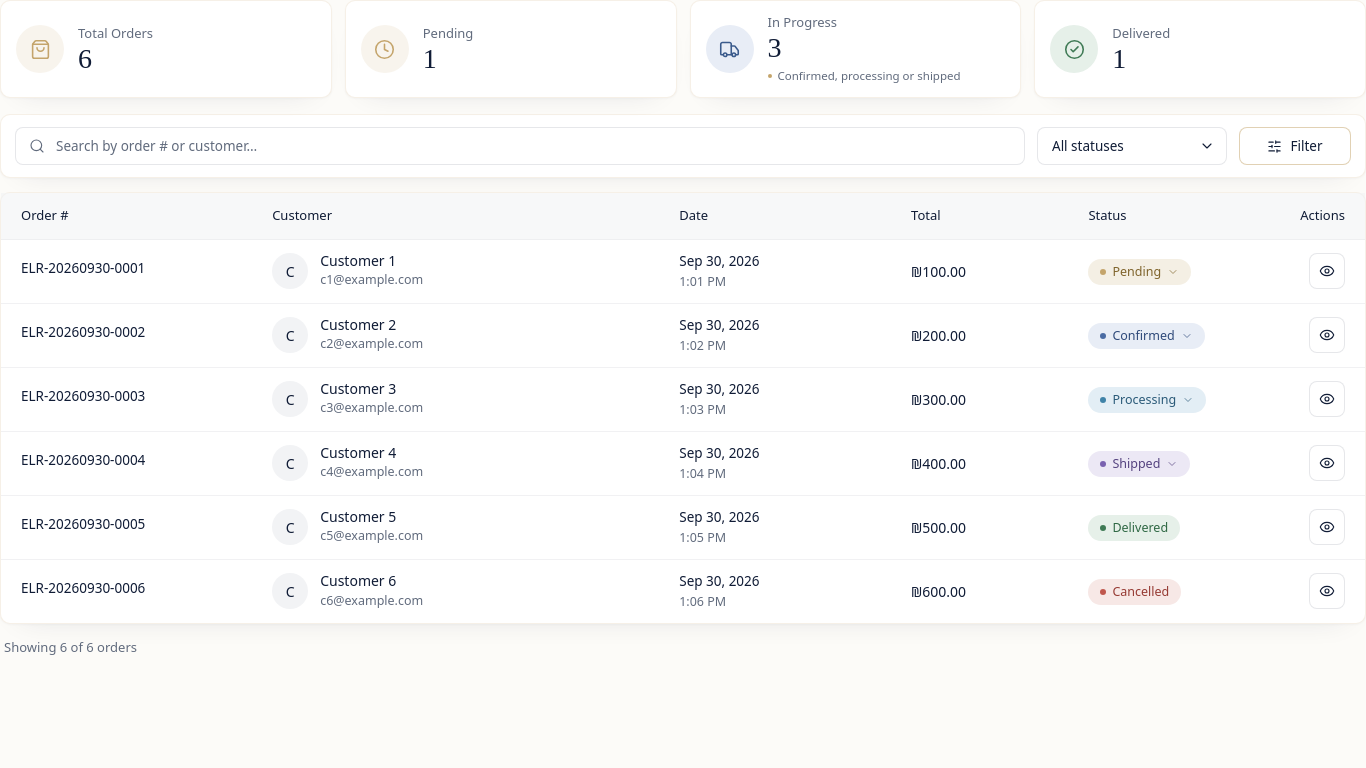
Test: a valid, non-final change › saves through the existing action, updates the badge at once, refreshes, and moves the cards
Click the button with test id "order-status-toggle": (1140,272) [1088,259,1191,285]
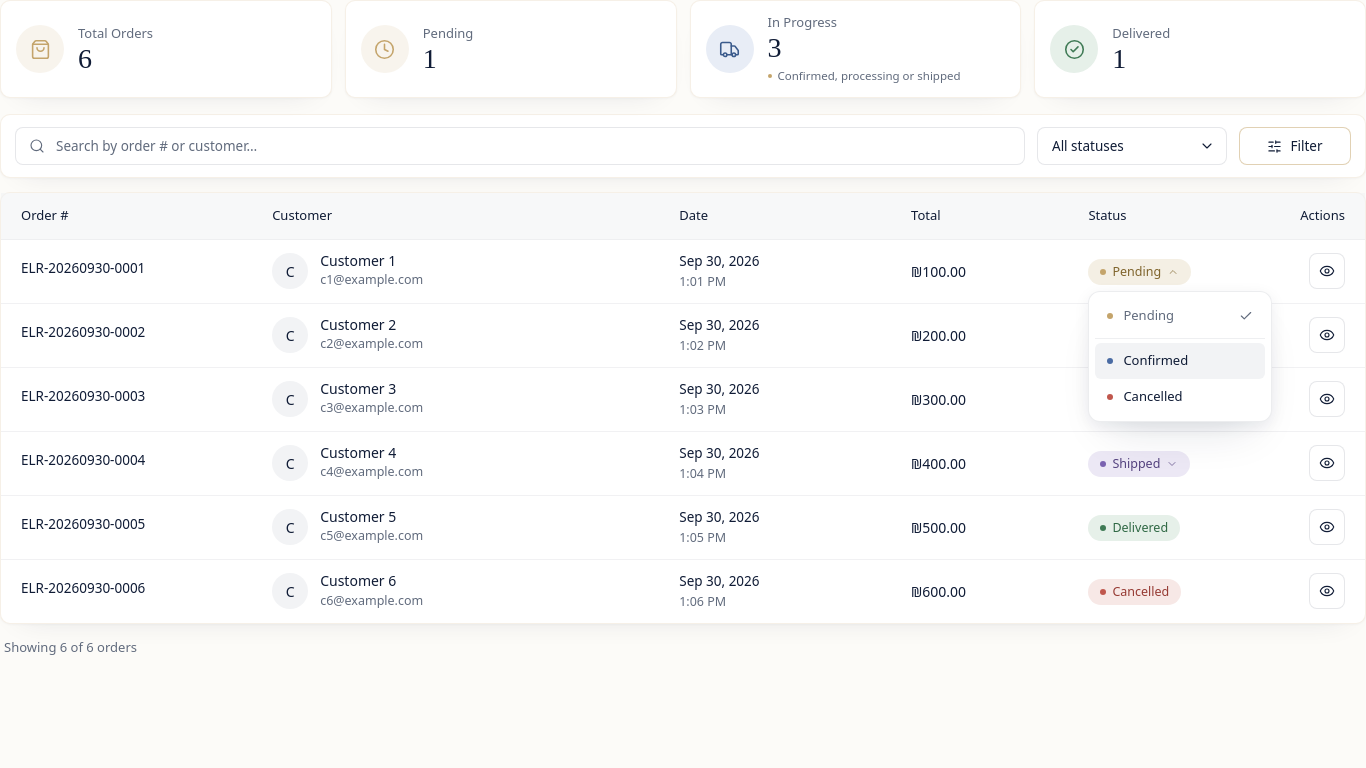
Click the menu item "Confirmed": (1180,361) [1095,343,1265,379]
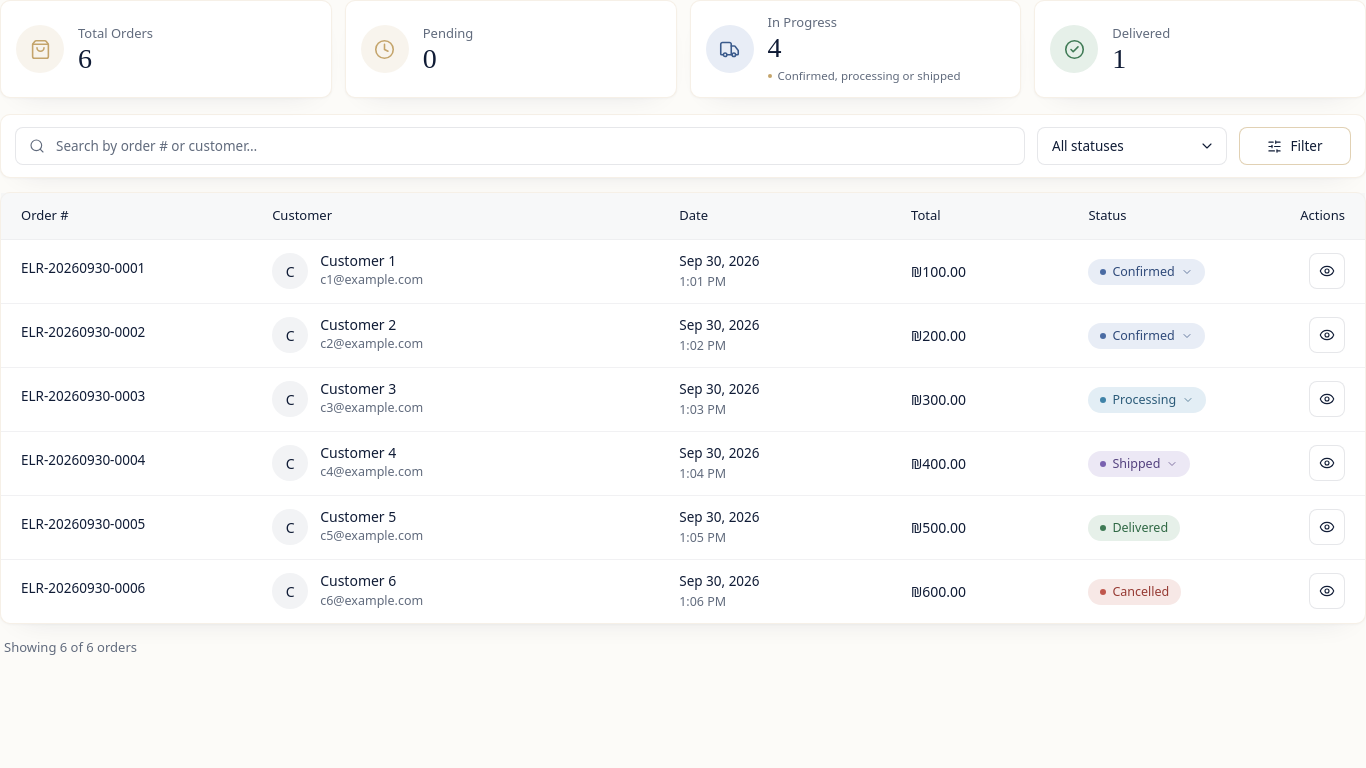
Now the button with test id "order-status-toggle" reads "Confirmed", box [1088,259,1205,285]
